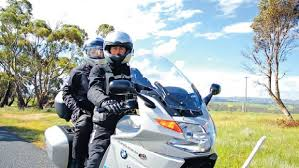helmet: (76, 23, 114, 76), (97, 28, 134, 58)
